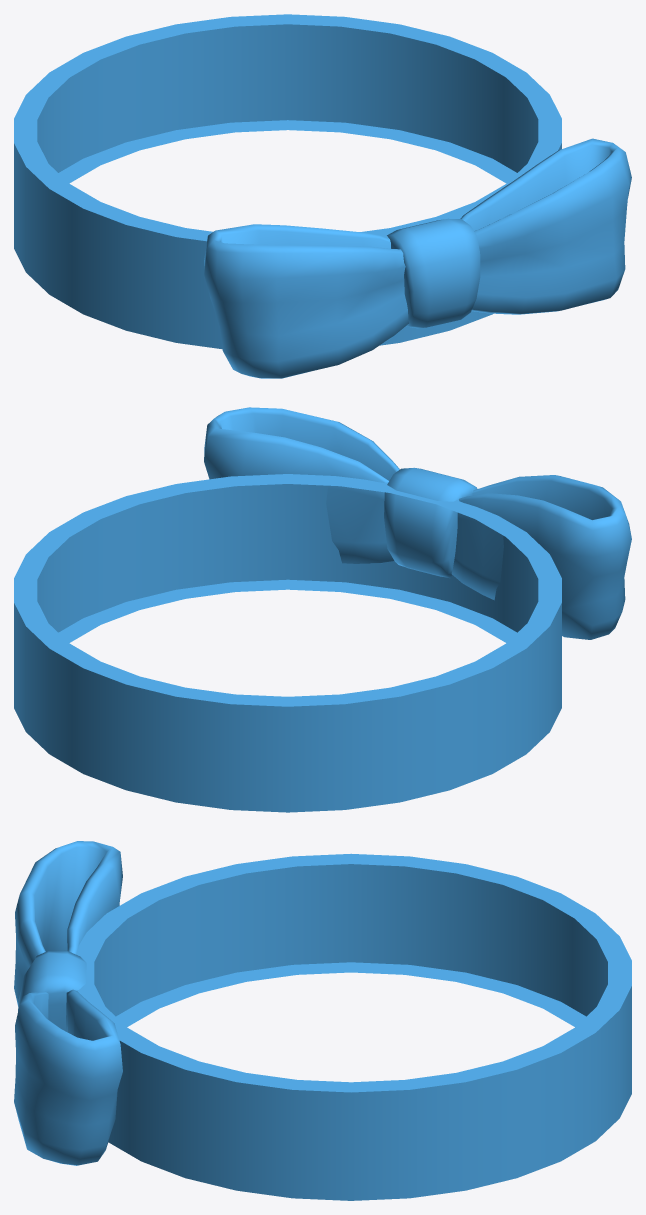
File: Cake_Sml_itemsSide_BowRibbon-A.FBX
3 views of the same model, one above another, from view 1: azimuth 30°, elevation 25°; view 2: azimuth 150°, elevation 25°; view 3: azimuth 270°, elevation 25° (orthographic). The views are drawn at different scales.
Visible parts, largest first — view 1: Cake_Sml_itemsSide_BowRibbon-A; view 2: Cake_Sml_itemsSide_BowRibbon-A; view 3: Cake_Sml_itemsSide_BowRibbon-A.
Boxes of the visible parts, bbox=[...] form: Cake_Sml_itemsSide_BowRibbon-A: bbox=[14, 14, 631, 378]; Cake_Sml_itemsSide_BowRibbon-A: bbox=[14, 407, 631, 812]; Cake_Sml_itemsSide_BowRibbon-A: bbox=[14, 841, 631, 1200].
Size of the model in its own units: 5087 by 1431 by 5566.
